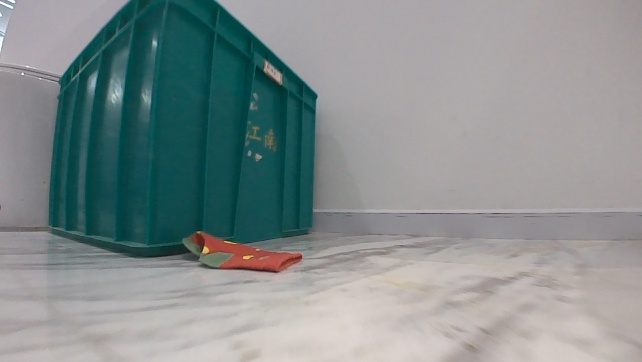socks: (179, 229, 304, 272)
toilet: (0, 61, 67, 231)
